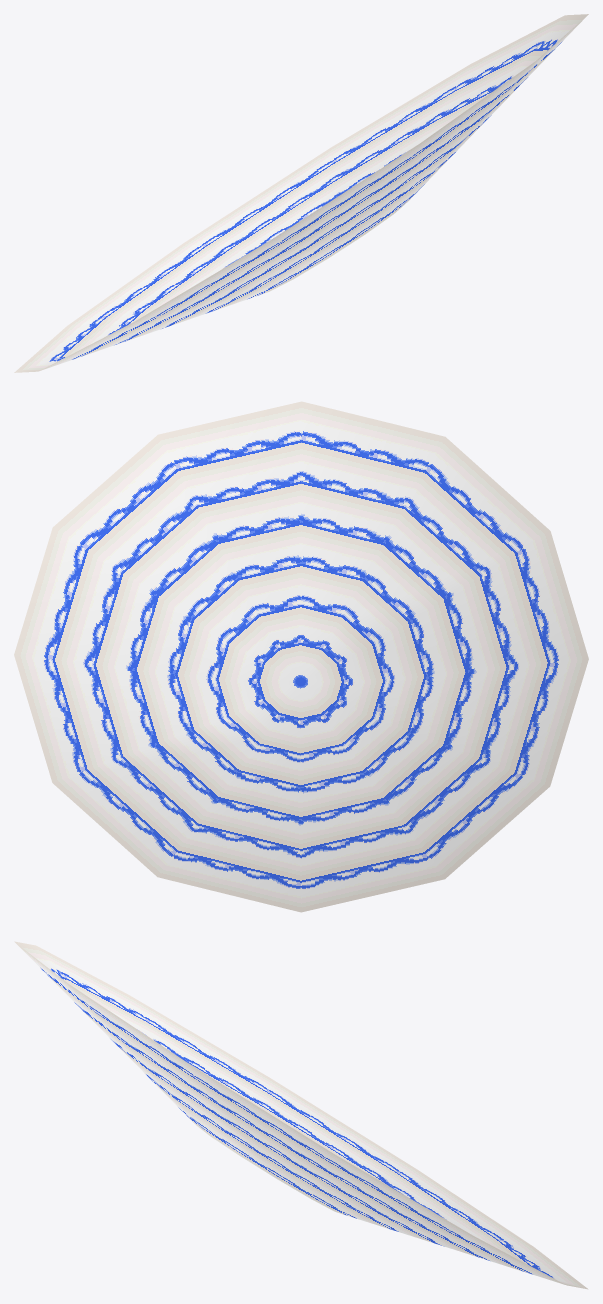
3 renders of one model, top to bottom at view 1: azimuth 30°, elevation 25°; view 2: azimuth 150°, elevation 25°; view 3: azimuth 270°, elevation 25°, orthographic. The views are drawn at different scales.
Visible parts, largest first — view 1: ef_751; view 2: ef_751; view 3: ef_751.
Boxes of the visible parts, <box> form: ef_751: <box>14,14,588,372</box>; ef_751: <box>14,401,588,912</box>; ef_751: <box>14,941,588,1289</box>.
Size of the model in its own units: 0.5133 by 0.3327 by 0.4604.
Materials: 1 (1 with a texture image).
